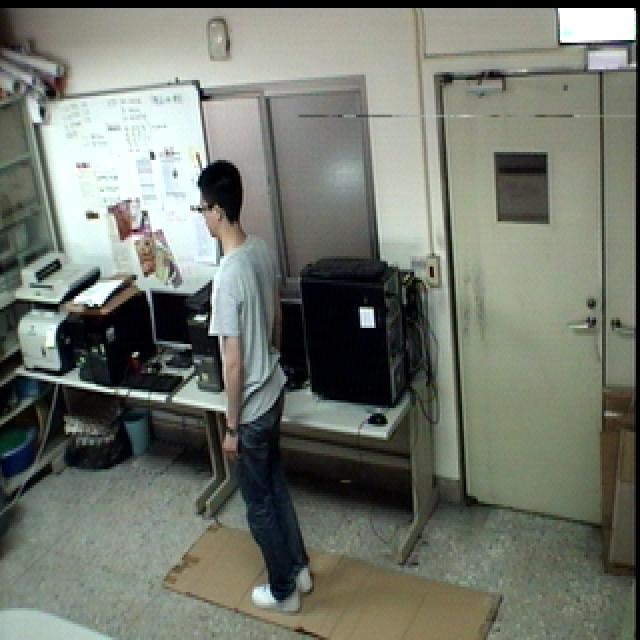stand: (191, 154, 321, 617)
